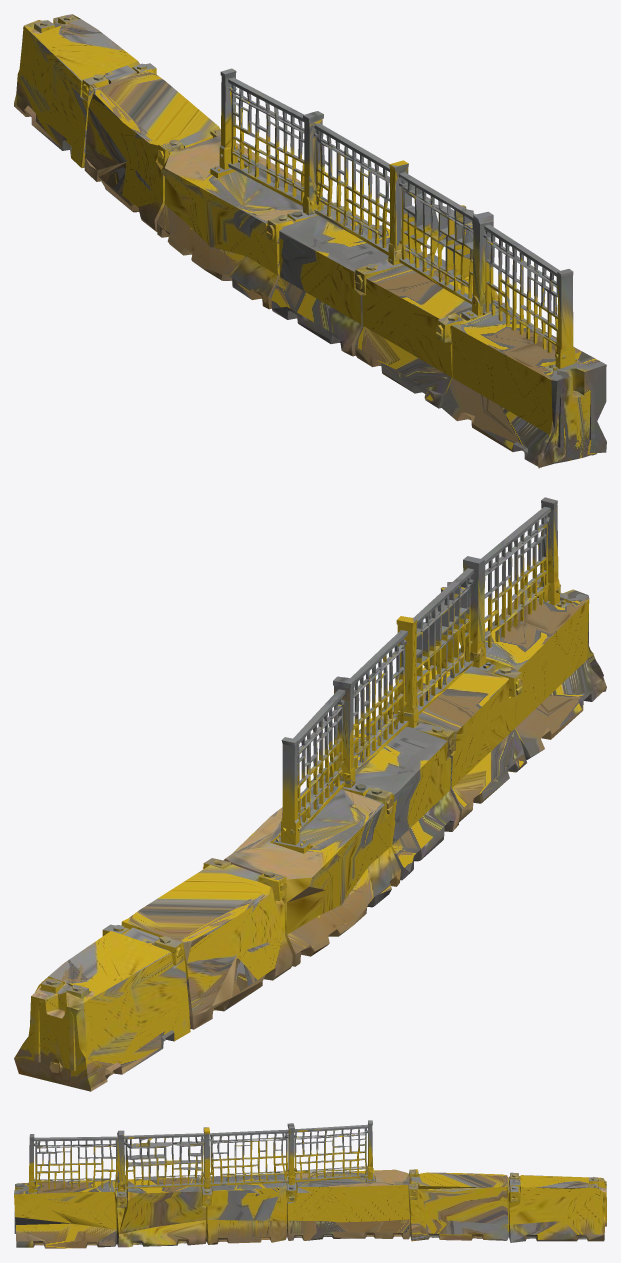
The picture shows the model from 3 angles, top to bottom: view 1: azimuth 30°, elevation 25°; view 2: azimuth 150°, elevation 25°; view 3: azimuth 270°, elevation 25°; orthographic projection. The views are drawn at different scales.
Visible parts, largest first — view 1: k04; view 2: k04; view 3: k04.
Boxes of the visible parts, x1,y1,x2,y2 form: k04: (14, 14, 606, 468); k04: (14, 497, 606, 1091); k04: (14, 1120, 606, 1248).
Bounding box in the file's own units: 3.48 × 5 × 25.18.
1 material, 1 textured.
